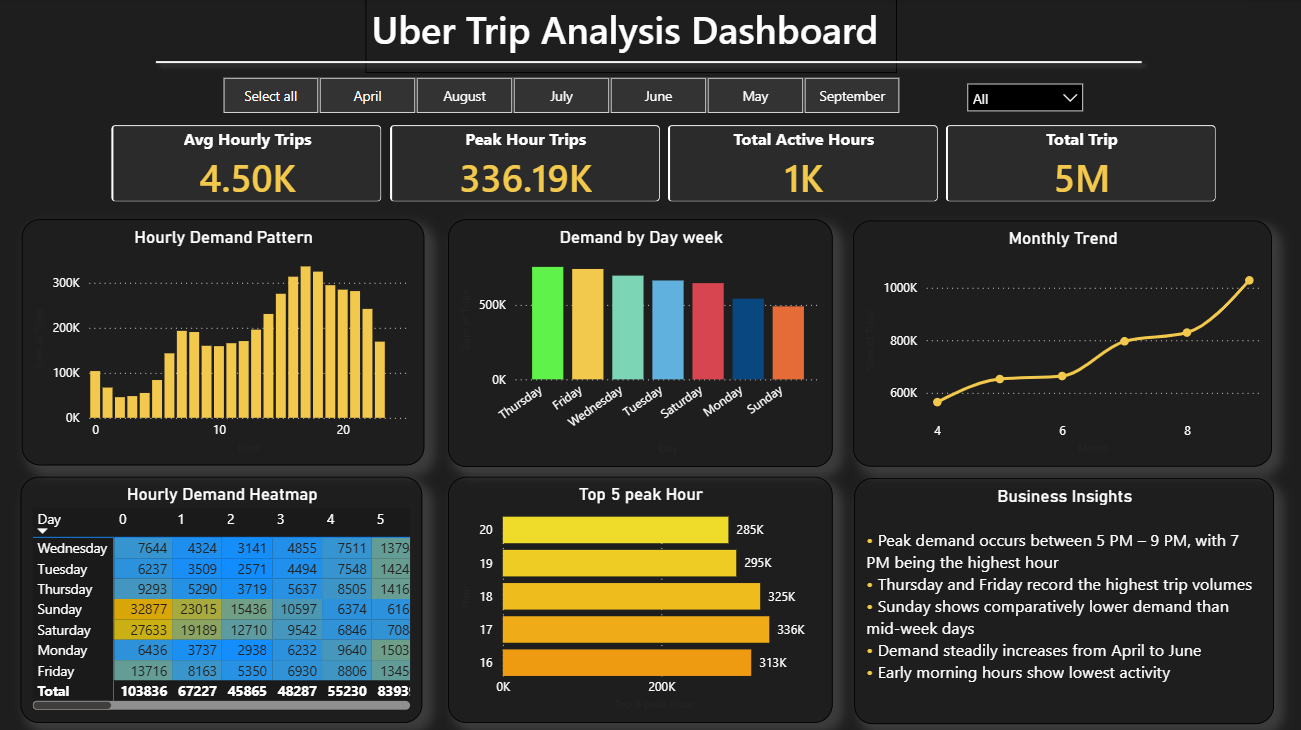

This screenshot's page, from the dashboard's own definition file:
{"tool":"powerbi","page":{"name":"Page 1","canvas":[1280,720],"ordinal":0},"visuals":[{"type":"textbox","box":[360.7,0,521.5,73.6],"z":0},{"type":"shape","box":[146.5,51.2,985.6,22.8],"z":1000},{"type":"cardVisual","fields":{"Data":["uber_dashboard_data.Avg Trips","uber_dashboard_data.Peak Trips","uber_dashboard_data.Total Hours","uber_dashboard_data.Total Trip"]},"box":[93.9,108.1,1120.7,109.5],"z":2000},{"type":"slicer","title":"Month","fields":{"Values":["uber_dashboard_data.Month Name"]},"box":[194.8,71.1,714,48.4],"z":3000},{"type":"slicer","fields":{"Values":["uber_dashboard_data.Day"]},"box":[941.5,74,133.7,45.5],"z":4000},{"type":"clusteredColumnChart","title":"Hourly Demand Pattern","fields":{"Category":["uber_dashboard_data.Hour"],"Y":["Sum(uber_dashboard_data.Trips)"]},"box":[23.3,217.2,395.1,241.7],"z":4001},{"type":"columnChart","title":"Demand by Day week","fields":{"Y":["Sum(uber_dashboard_data.Trips)"],"Category":["uber_dashboard_data.Day"]},"box":[441.7,217.2,377.9,242.9],"z":4002},{"type":"lineChart","title":"Monthly Trend","fields":{"Category":["uber_dashboard_data.Month"],"Y":["Sum(uber_dashboard_data.Trips)"]},"box":[839.3,218.4,411,241.7],"z":4003},{"type":"pivotTable","title":"Hourly Demand Heatmap","fields":{"Rows":["uber_dashboard_data.Day"],"Columns":["uber_dashboard_data.Hour"],"Values":["Sum(uber_dashboard_data.Trips)"]},"box":[22.7,469.3,394.7,241.3],"z":4004},{"type":"barChart","title":"Top 5 peak Hour ","fields":{"Category":["uber_dashboard_data.Hour"],"Y":["Sum(uber_dashboard_data.Trips)"]},"box":[441.3,469.3,377.3,241.3],"z":4005},{"type":"textbox","title":"Business Insights","box":[840,470.7,412,241.3],"z":4006}]}

Visuals, with their boxes in screenshot pixels (x1, y1, x2, y2), scaled from the page's 1280x720 canvas onto the 1301x730 screenshot:
textbox: left=367, top=0, right=897, bottom=75
shape: left=149, top=52, right=1151, bottom=75
cardVisual - uber_dashboard_data.Avg Trips x uber_dashboard_data.Peak Trips: left=95, top=110, right=1235, bottom=221
"Month" slicer: left=198, top=72, right=924, bottom=121
slicer - uber_dashboard_data.Day: left=957, top=75, right=1093, bottom=121
"Hourly Demand Pattern" clusteredColumnChart: left=24, top=220, right=425, bottom=465
"Demand by Day week" columnChart: left=449, top=220, right=833, bottom=466
"Monthly Trend" lineChart: left=853, top=221, right=1271, bottom=466
"Hourly Demand Heatmap" pivotTable: left=23, top=476, right=424, bottom=720
"Top 5 peak Hour " barChart: left=449, top=476, right=832, bottom=720
"Business Insights" textbox: left=854, top=477, right=1273, bottom=722
